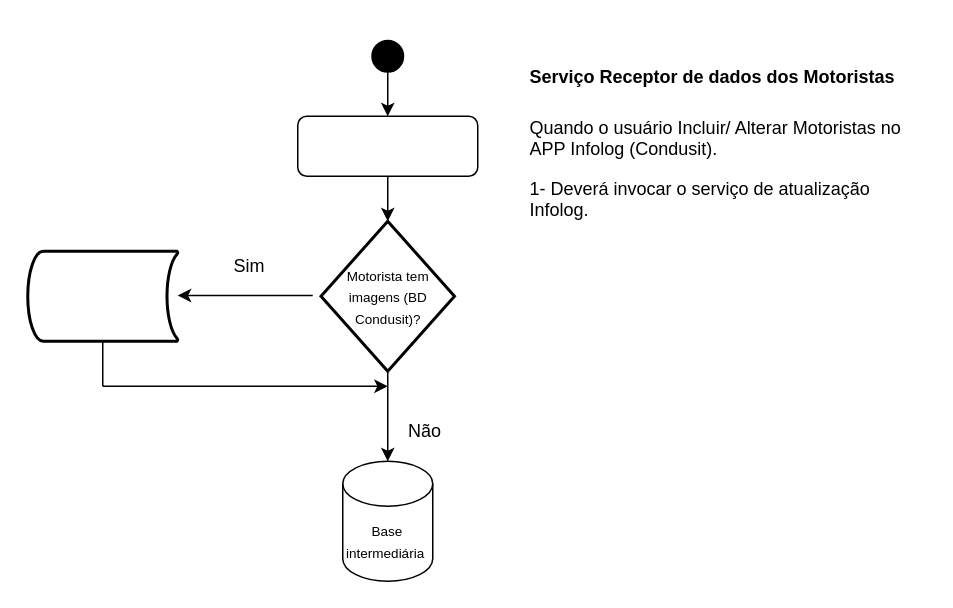
The diagram is 953 pixels wide and 608 high, and some of its shapes have lost their labels. Here are the shapes that lost their labels. From the top down, the centre of each, then its label:
point 387,145: Receber dados do Motorista APP Infolog (Condusit).
point 102,295: Serviço Condusit retorno para imagens
